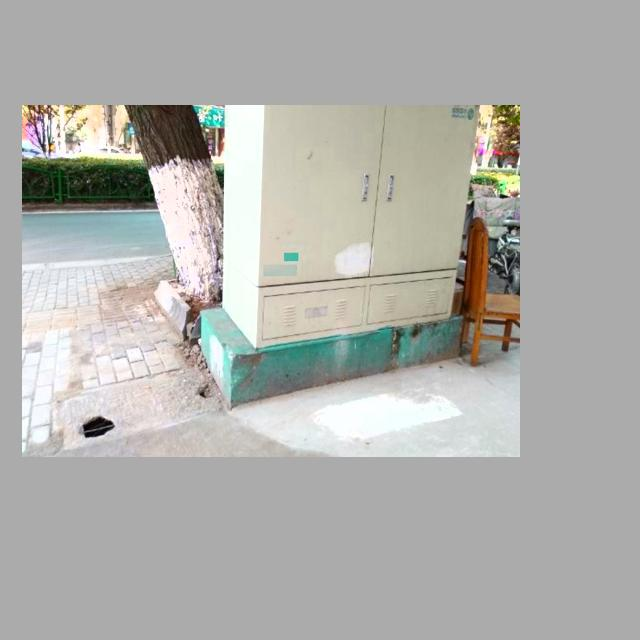broke: (57, 361, 217, 450)
